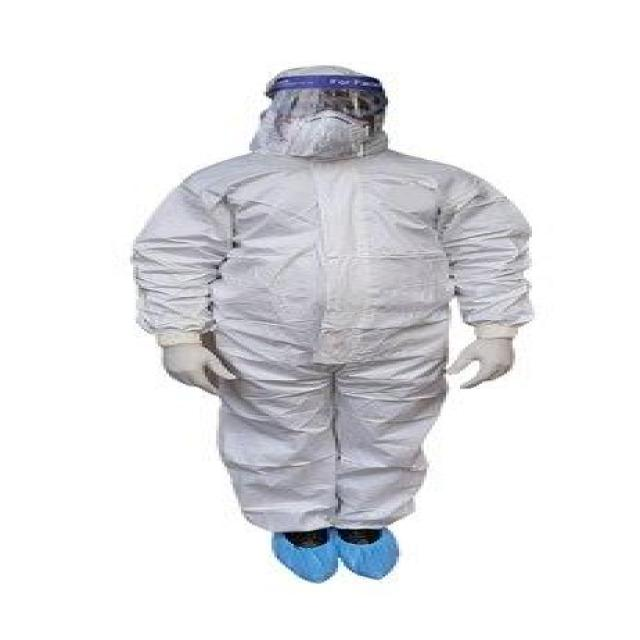Coverall: (72, 39, 640, 555)
Gloves: (116, 326, 252, 402), (430, 332, 566, 392)
Goggles: (277, 91, 391, 124)
Mask: (291, 118, 396, 152)
